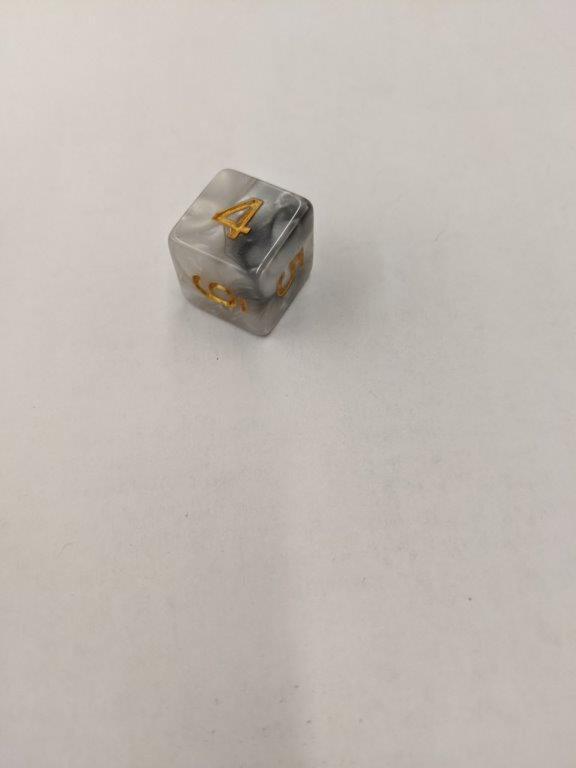d6-4: (165, 166, 316, 343)
